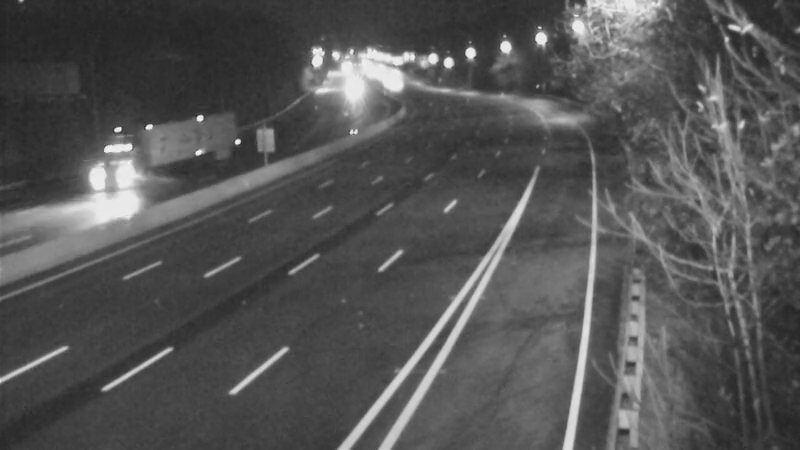vehicle: (100, 117, 180, 197), (366, 57, 416, 107), (327, 70, 377, 120)
